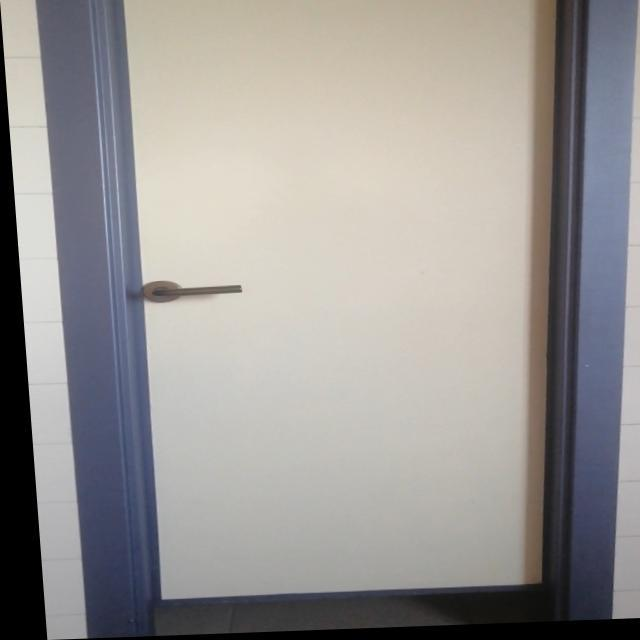door_handle: (143, 284, 244, 300)
